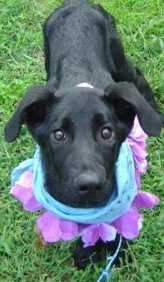Dog: (10, 83, 156, 275)
